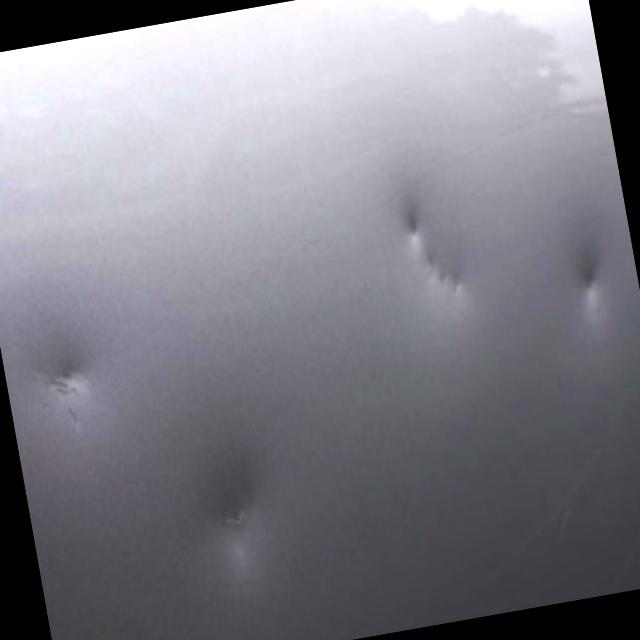dent: (378, 184, 477, 339), (37, 356, 103, 439), (208, 482, 259, 563), (552, 251, 612, 318)
